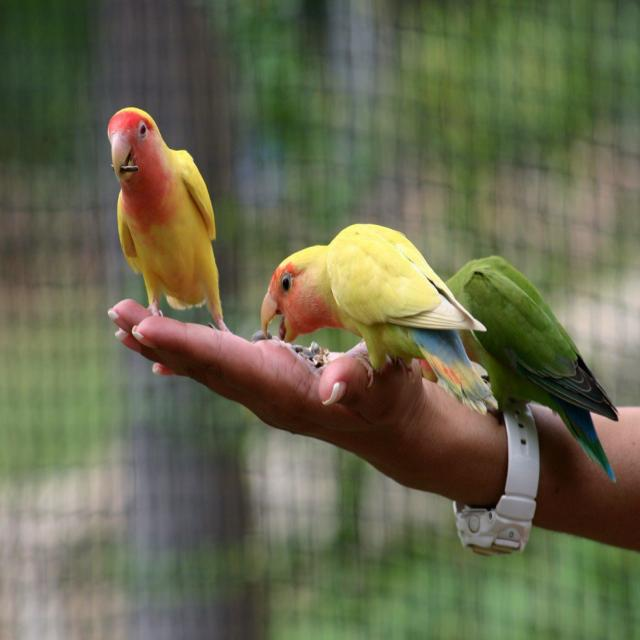Parrot: (451, 250, 618, 475), (257, 221, 473, 374), (106, 108, 229, 336)
